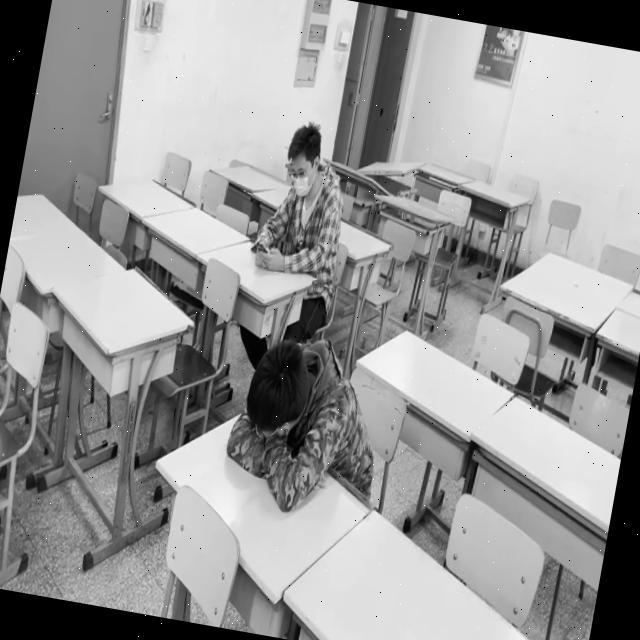phone: (252, 119, 353, 278)
sleep: (222, 340, 363, 502)
